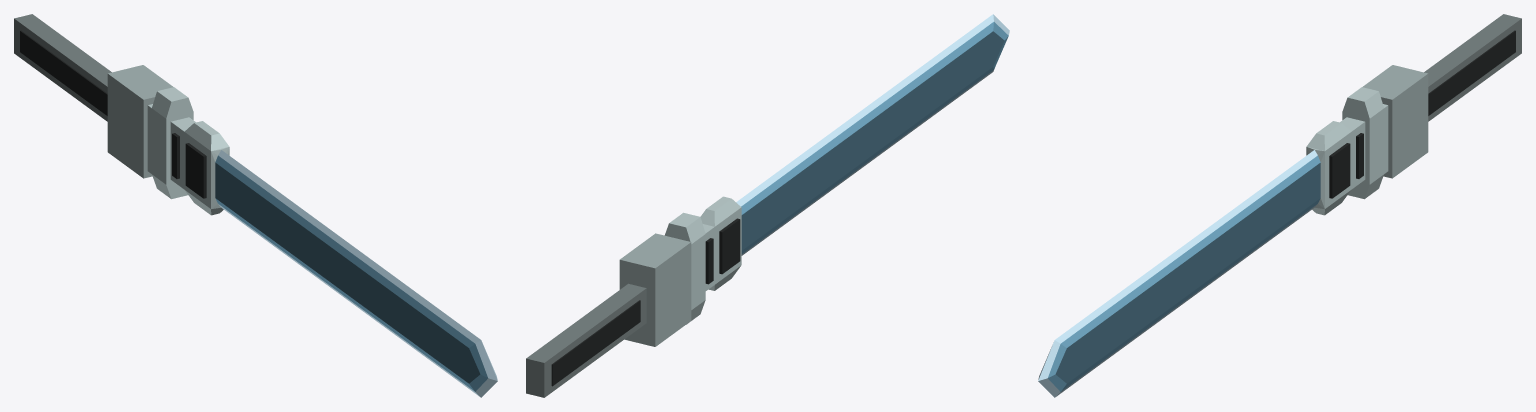
The model's file is Energy_Blade.fbx.
3 renders of one model, left to right at view 1: azimuth 30°, elevation 25°; view 2: azimuth 150°, elevation 25°; view 3: azimuth 330°, elevation 25°, orthographic.
Visible parts, largest first — view 1: Energy_Blade; view 2: Energy_Blade; view 3: Energy_Blade.
Part boxes in pixels (box(x1,y1,x2,y2)): Energy_Blade: box(14, 14, 497, 397); Energy_Blade: box(526, 14, 1009, 397); Energy_Blade: box(1038, 14, 1521, 397).
Bounding box in the file's own units: 0.0475 × 0.124 × 1.09.
